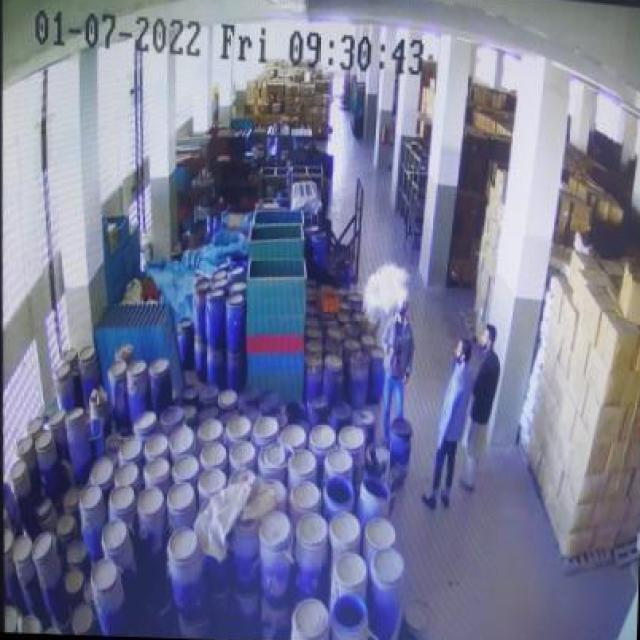fire: (360, 255, 411, 325)
